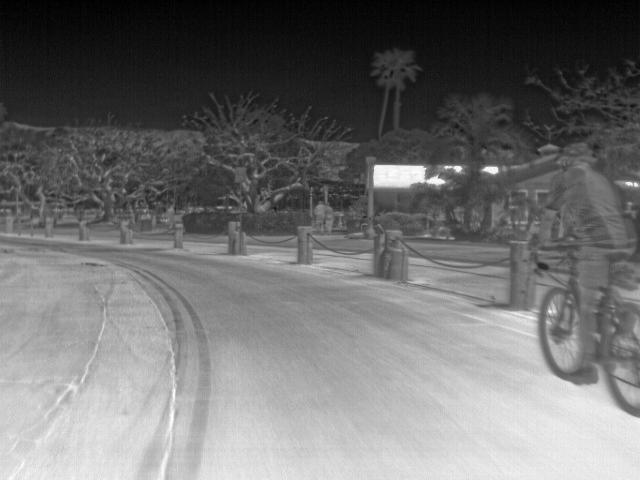person: (531, 140, 635, 384), (322, 202, 336, 236), (313, 199, 327, 233)
